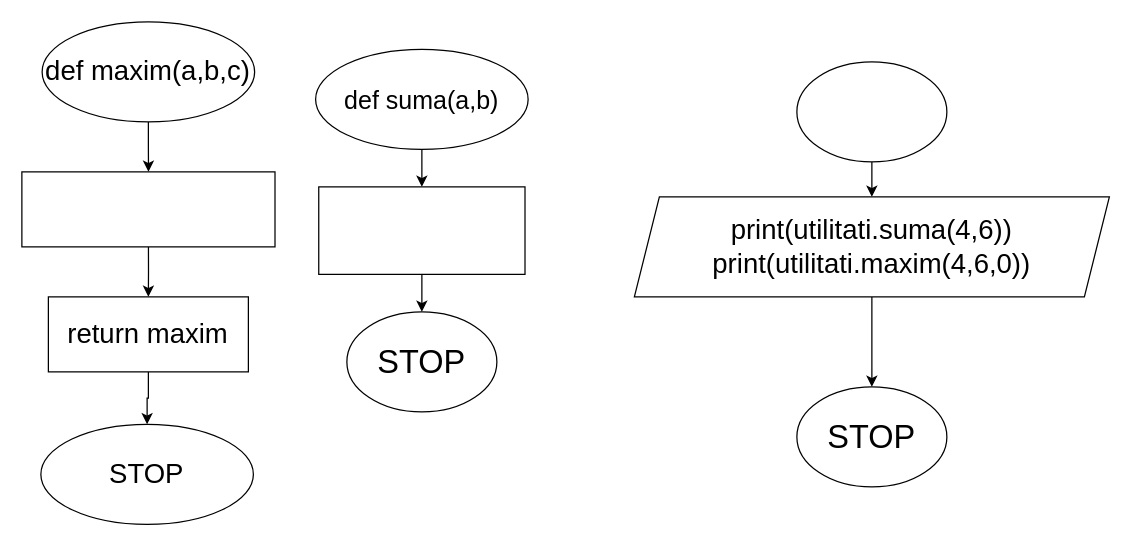
The diagram is 1131 pixels wide and 546 high, and some of its shapes have lost their labels. Here are the shapes that lost their labels. From the top down, the box of each, then its label:
(796, 61, 947, 162): START
(21, 171, 275, 247): maxim=max(a,b,c)
(318, 186, 525, 274): suma=a+b return suma
